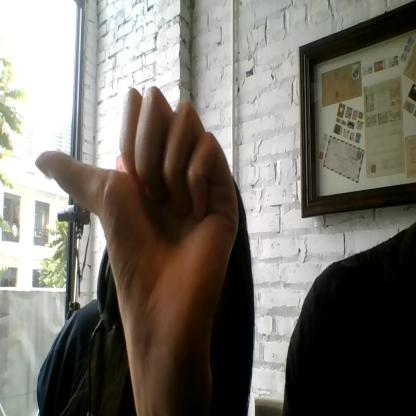right: (36, 86, 240, 329)
